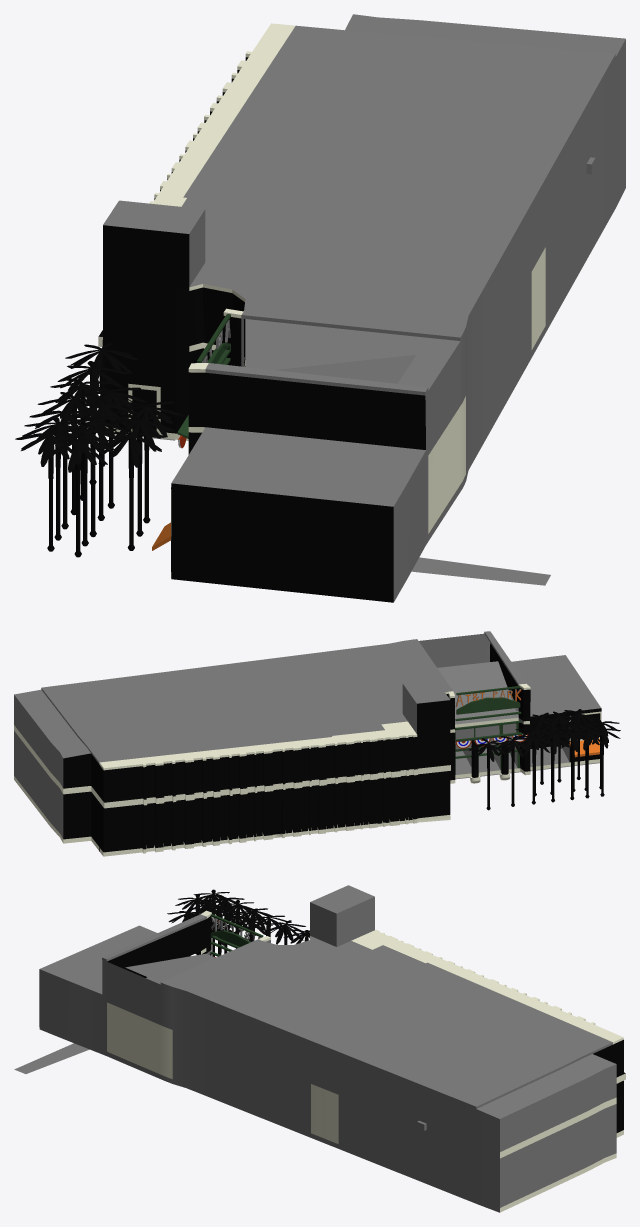
Rendered from AttparkUntext.obj.
The picture shows the model from 3 angles, top to bottom: view 1: azimuth 30°, elevation 25°; view 2: azimuth 150°, elevation 25°; view 3: azimuth 270°, elevation 25°; orthographic projection. The views are drawn at different scales.
Visible parts, largest first — view 1: pPlane3 att_park; view 2: pPlane3 att_park, att_park polySurface125; view 3: pPlane3 att_park.
Boxes of the visible parts, bbox=[...] form: pPlane3 att_park: bbox=[98, 14, 625, 602]; pPlane3 att_park: bbox=[14, 631, 601, 856]; att_park polySurface125: bbox=[456, 697, 520, 714]; pPlane3 att_park: bbox=[14, 885, 625, 1212].
Size of the model in its own units: 211 by 50.12 by 212.
